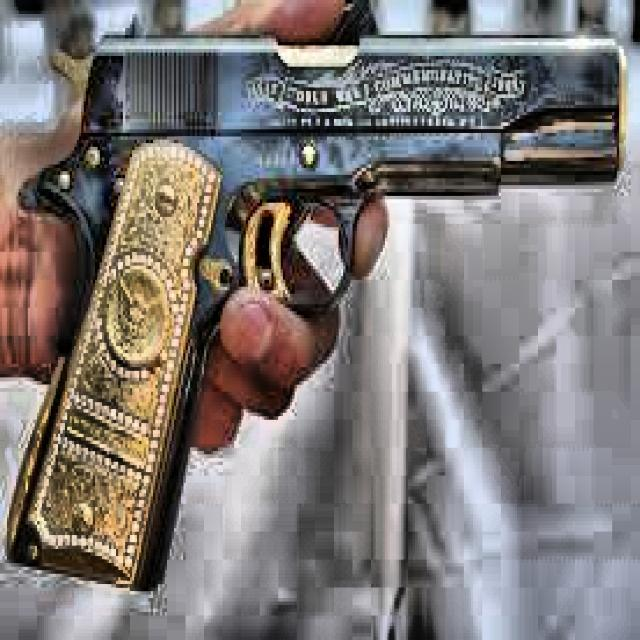Colt m1911: (5, 21, 626, 591)
